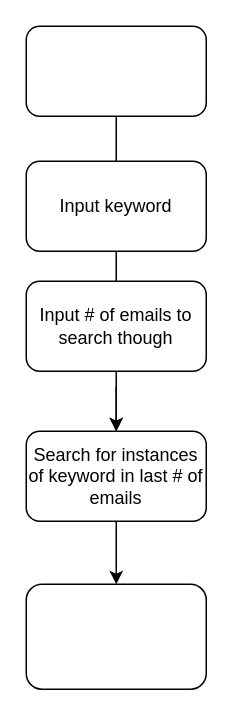
Some shapes in this 233 by 716 pixel diagram are drawn without their labels. Each missing label, with the centre of its shape:
"Allow Gmail Authentification" goes at point (115, 70).
"Export a list of email sender of that contains the keyword to EXCEL" goes at point (115, 636).
